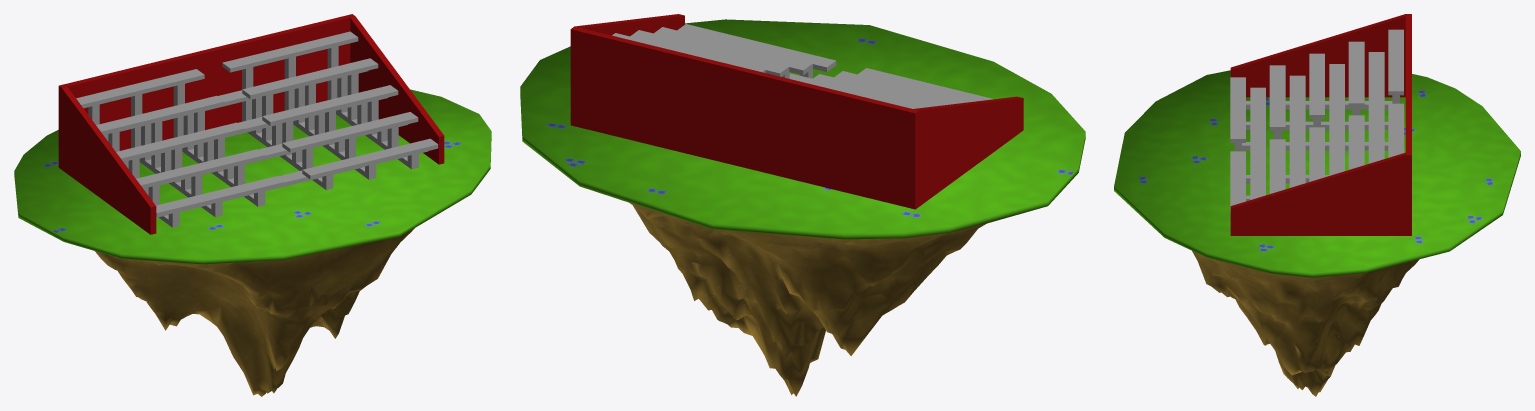
Rendered from FloatingStands1.fbx.
3 views of the same model, side by side, from view 1: azimuth 30°, elevation 25°; view 2: azimuth 150°, elevation 25°; view 3: azimuth 270°, elevation 25° (orthographic). The views are drawn at different scales.
Visible parts, largest first — view 1: Landscape.010, Cube.004, Cube.006; view 2: Landscape.010, Cube.006, Cube.004; view 3: Landscape.010, Cube.004, Cube.006.
Part boxes in pixels (<box>): Landscape.010: <box>14,89,491,396</box>; Cube.004: <box>76,31,438,227</box>; Cube.006: <box>58,14,444,234</box>; Landscape.010: <box>520,19,1085,396</box>; Cube.006: <box>570,14,1023,209</box>; Cube.004: <box>612,24,993,108</box>; Landscape.010: <box>1114,70,1520,396</box>; Cube.004: <box>1230,29,1403,216</box>; Cube.006: <box>1230,14,1411,235</box>.
Size of the model in its own units: 2500 by 1675 by 2000.
